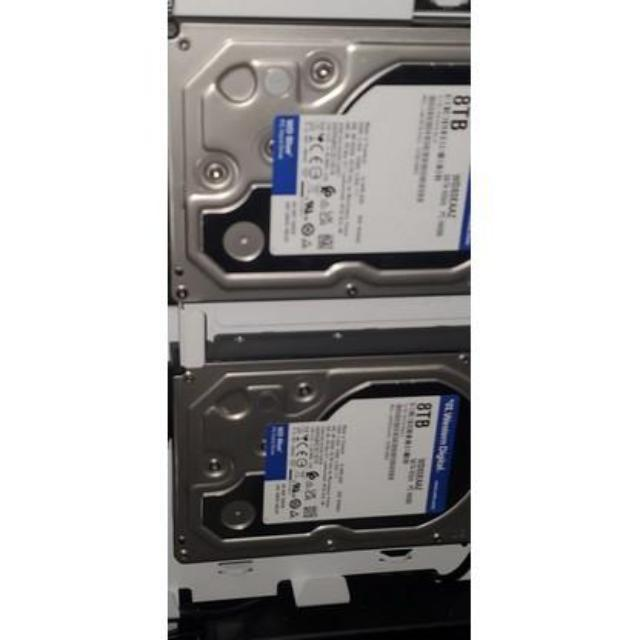DISK: (174, 13, 472, 304), (171, 338, 469, 560)
